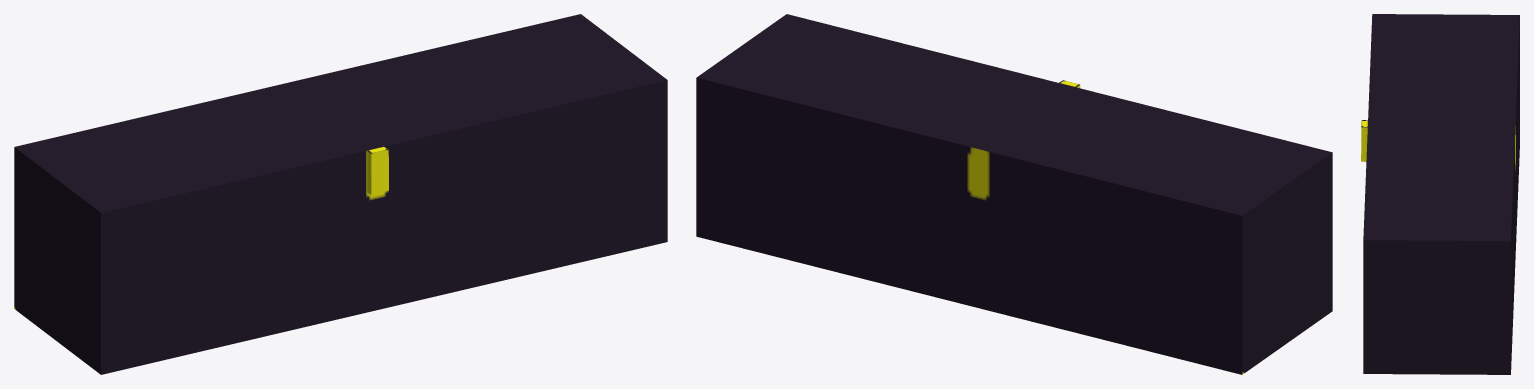
Rendered from meatbox.fbx.
3 renders of one model, left to right at view 1: azimuth 30°, elevation 25°; view 2: azimuth 150°, elevation 25°; view 3: azimuth 270°, elevation 25°, orthographic. The views are drawn at different scales.
Visible parts, largest first — view 1: box2; view 2: box2; view 3: box2.
Part boxes in pixels (x1,y1,x2,y2): box2: (14, 14, 667, 374); box2: (696, 14, 1332, 374); box2: (1361, 14, 1519, 374).
Size of the model in its own units: 119 by 32.6 by 35.06.
